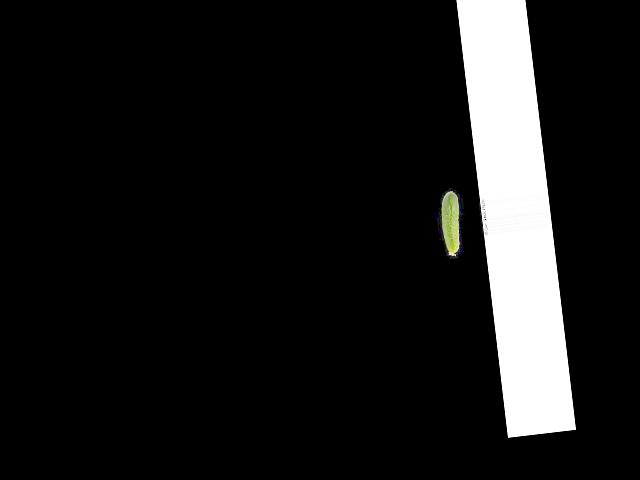cucumber: (438, 190, 464, 256)
